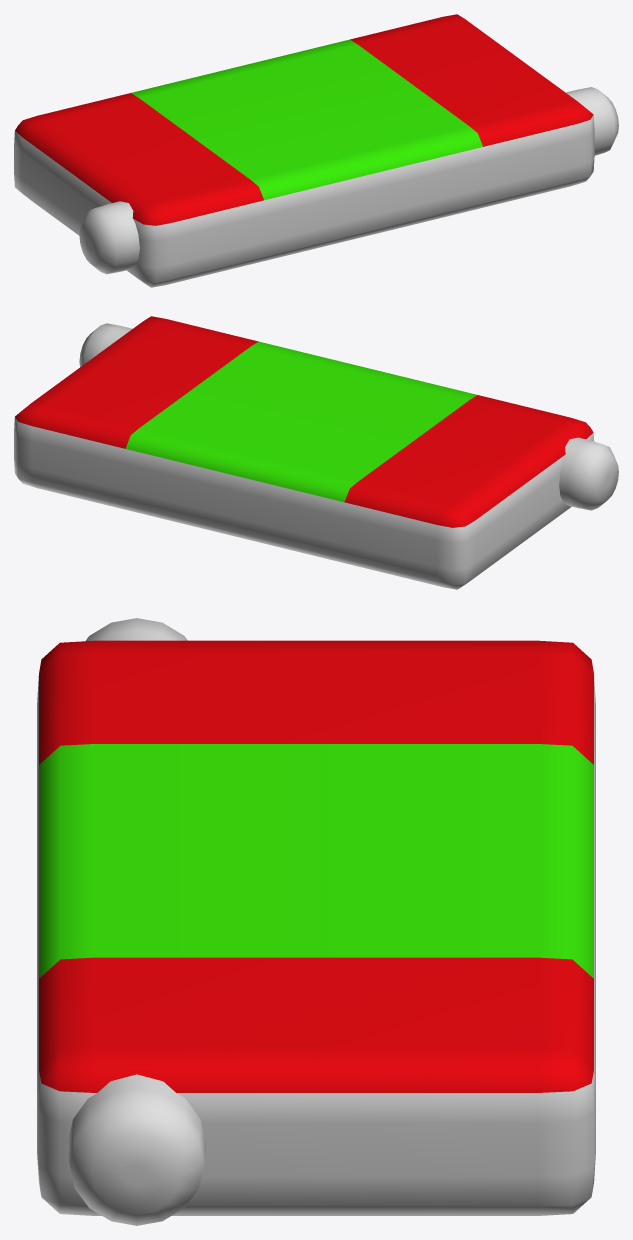
The model's file is Launch_Mechanism.fbx.
3 views of the same model, one above another, from view 1: azimuth 30°, elevation 25°; view 2: azimuth 150°, elevation 25°; view 3: azimuth 270°, elevation 25° (orthographic). The views are drawn at different scales.
Parts seen in each view (by area): view 1: Launch_Mechanism; view 2: Launch_Mechanism; view 3: Launch_Mechanism.
Boxes of the visible parts, x1,y1,x2,y2 form: Launch_Mechanism: (14, 14, 618, 287); Launch_Mechanism: (14, 316, 618, 589); Launch_Mechanism: (37, 618, 595, 1225).
Bounding box in the file's own units: 210 × 29.94 × 97.8.
